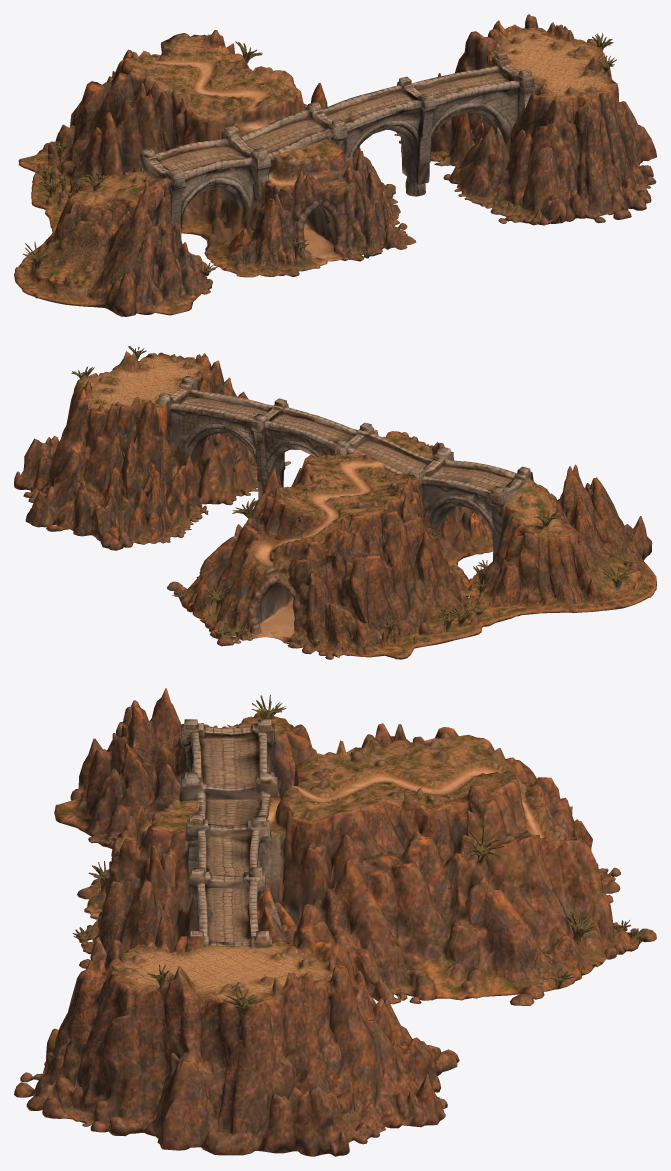
Rendered from mountain-cave.glb.
3 renders of one model, top to bottom at view 1: azimuth 30°, elevation 25°; view 2: azimuth 150°, elevation 25°; view 3: azimuth 270°, elevation 25°, orthographic. The views are drawn at different scales.
Visible parts, largest first — view 1: Mesh_0; view 2: Mesh_0; view 3: Mesh_0.
Boxes of the visible parts, box(x1,y1,x2,y2) form: Mesh_0: box(14, 14, 656, 316); Mesh_0: box(14, 346, 656, 659); Mesh_0: box(14, 688, 656, 1156).
Bounding box in the file's own units: 376 × 67.7 × 253.
Materials: 1 (1 with a texture image).
